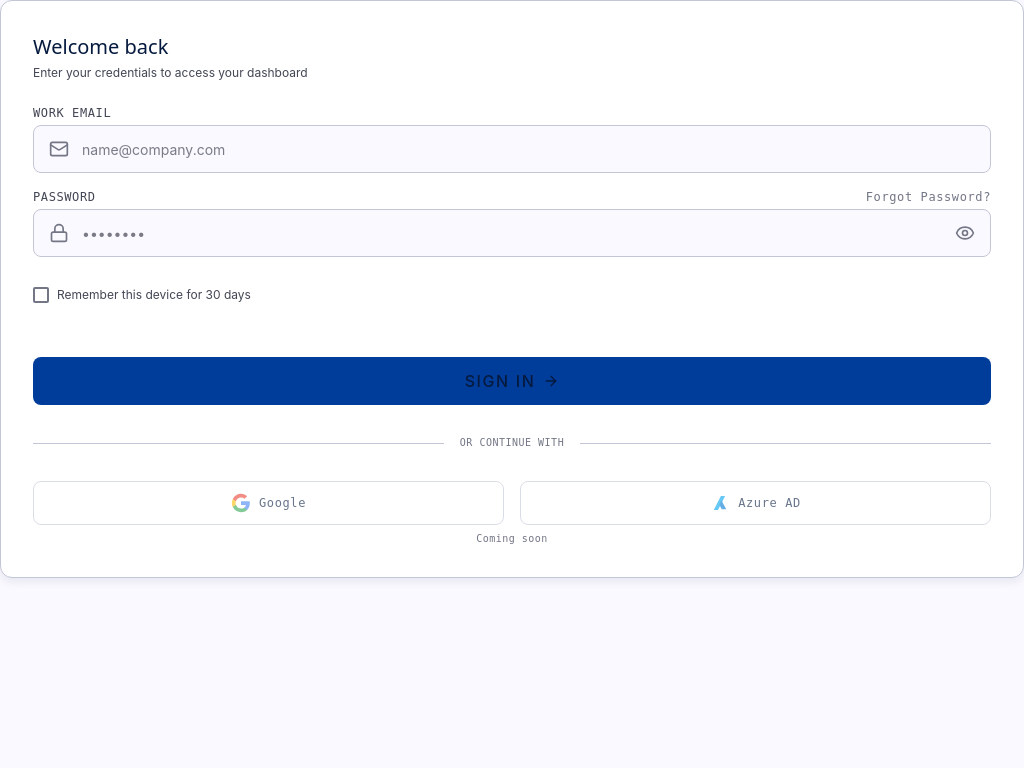
Test: LoginForm › shows generic Invalid credentials and clears password
The image size is (1024, 768).
In the field labelled "Work Email": (512, 149) [33,125,991,173], type "alex@tasksync.local"
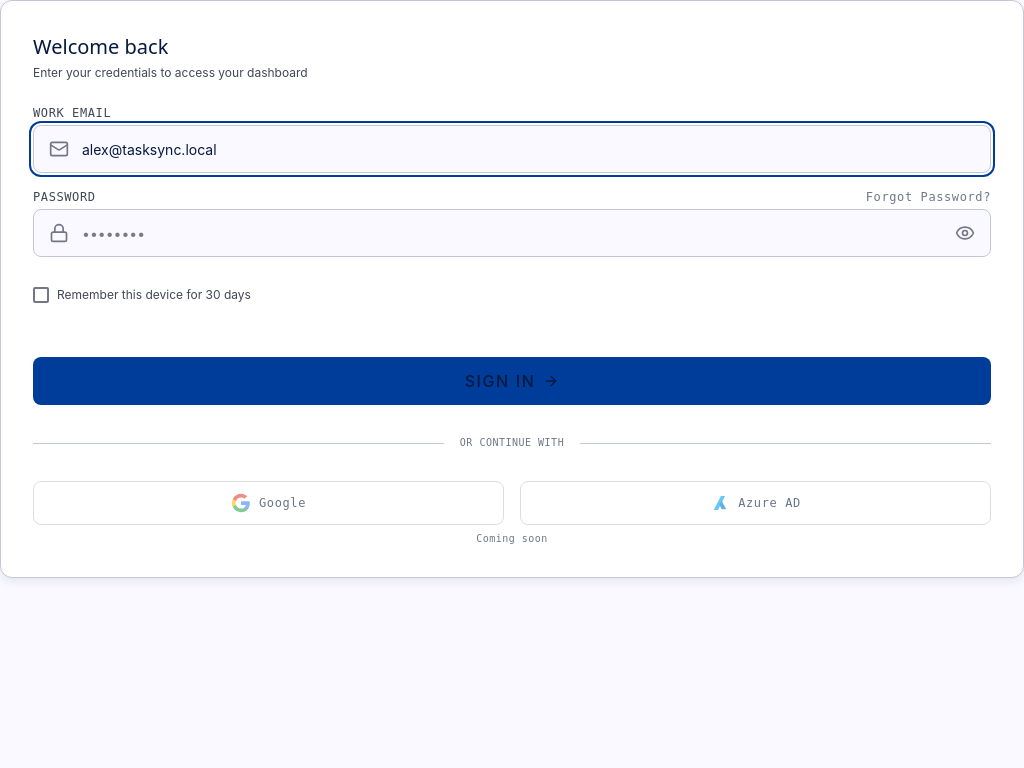
In the password field labelled "Password": (512, 233) [33,209,991,257], type "wrong-password"
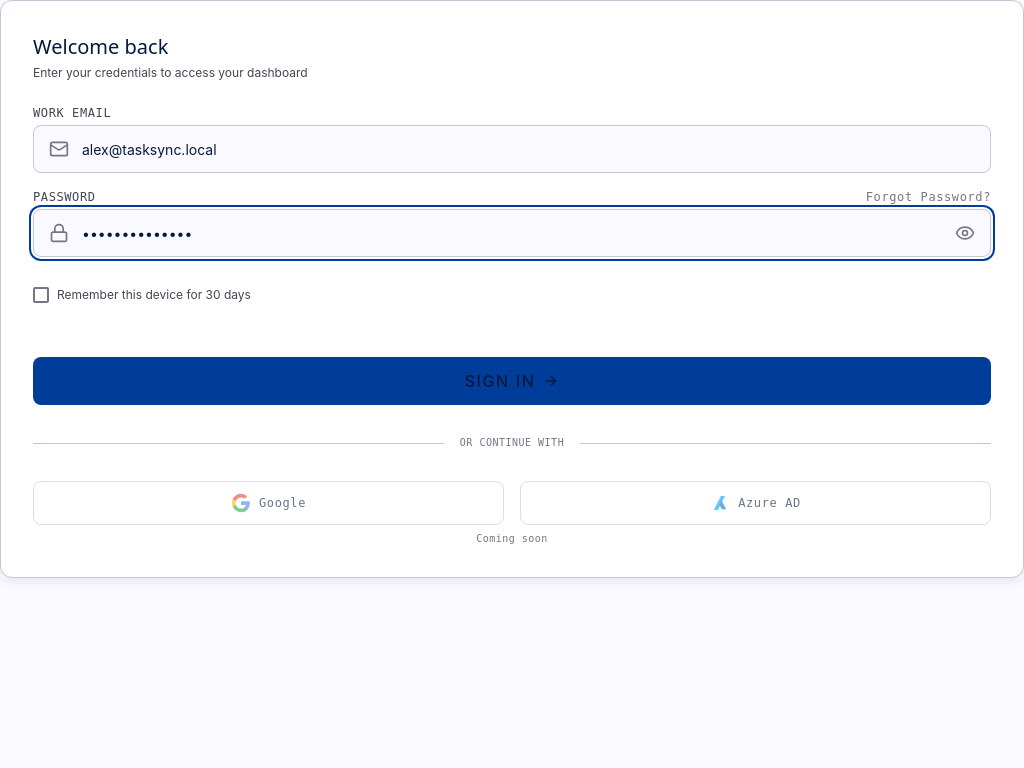
Click the button "Sign in": (512, 381) [33,357,991,405]
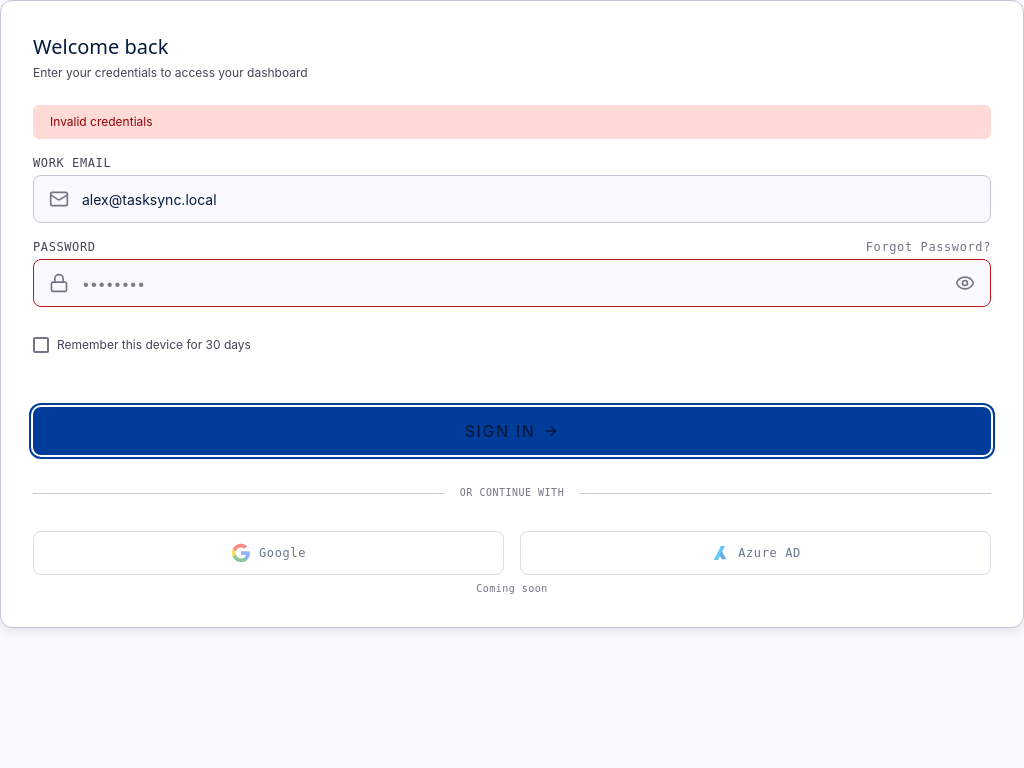
Check: the text "Invalid credentials" is shown, box [33,105,991,139]
Check: the password field labelled "Password" is empty, box [33,259,991,307]
